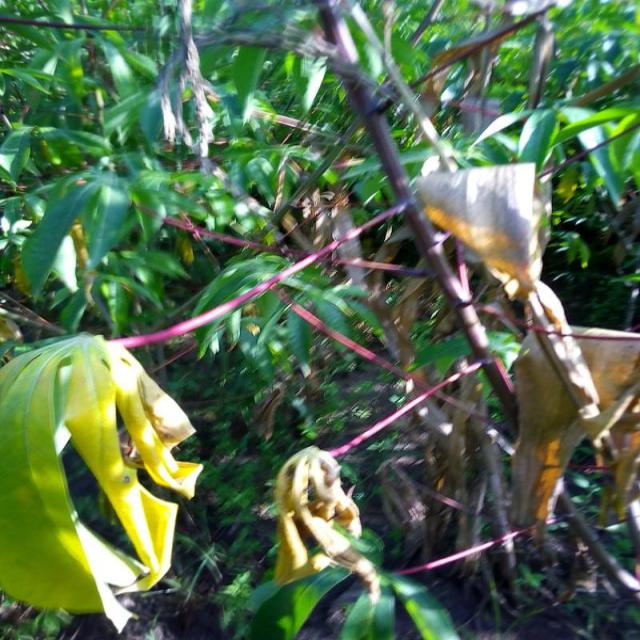cassava leaf: (2, 330, 204, 632), (415, 159, 553, 301)
